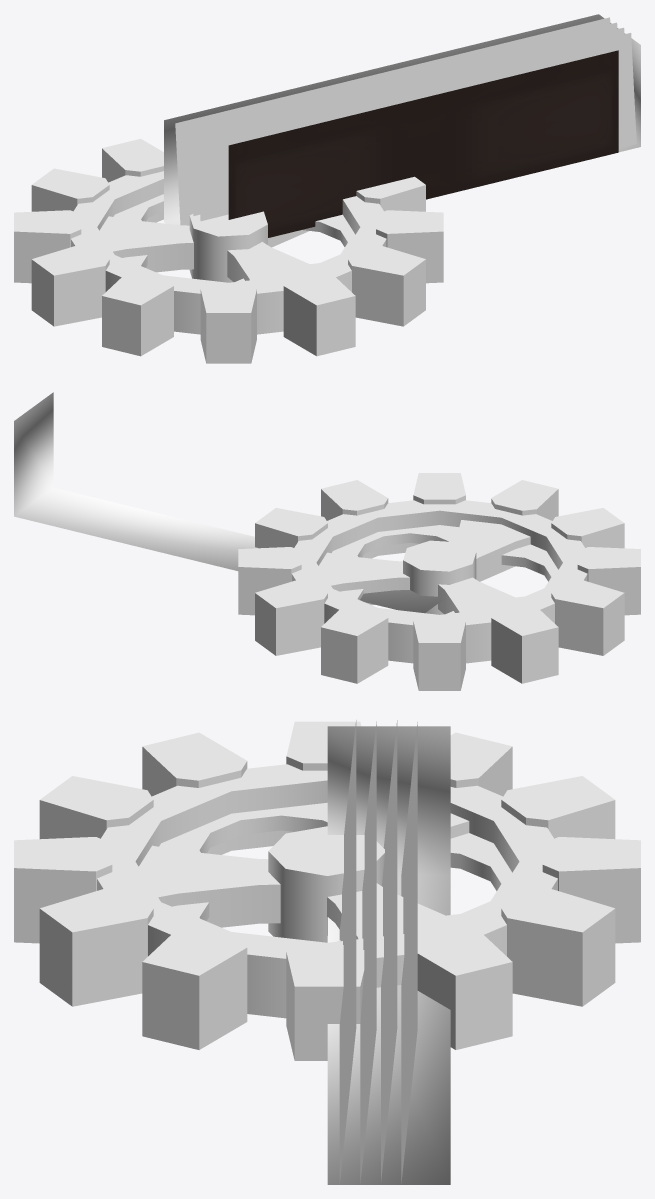
The model's file is roof_gear_8x2.glb.
The picture shows the model from 3 angles, top to bottom: view 1: azimuth 30°, elevation 25°; view 2: azimuth 150°, elevation 25°; view 3: azimuth 270°, elevation 25°; orthographic projection. The views are drawn at different scales.
Parts seen in each view (by area): view 1: rsrc.world.tileset.clockworks_shock.wall.roof_gear_8x2-MeshN (×3), rsrc.world.prop.clockworks.gears.1unit_teeth.parts.12teeth-M (×5); view 2: rsrc.world.prop.clockworks.gears.1unit_teeth.parts.12teeth-M (×5), rsrc.world.tileset.clockworks_shock.wall.roof_gear_8x2-MeshN; view 3: rsrc.world.prop.clockworks.gears.1unit_teeth.parts.12teeth-M (×5), rsrc.world.tileset.clockworks_shock.wall.roof_gear_8x2-MeshN (×2).
Boxes of the visible parts, x1,y1,x2,y2 form: rsrc.world.tileset.clockworks_shock.wall.roof_gear_8x2-MeshN (×3): [164, 14, 640, 237]; rsrc.world.prop.clockworks.gears.1unit_teeth.parts.12teeth-M (×5): [14, 138, 443, 363]; rsrc.world.prop.clockworks.gears.1unit_teeth.parts.12teeth-M (×5): [238, 473, 640, 690]; rsrc.world.tileset.clockworks_shock.wall.roof_gear_8x2-MeshN: [14, 392, 442, 613]; rsrc.world.prop.clockworks.gears.1unit_teeth.parts.12teeth-M (×5): [14, 721, 640, 1060]; rsrc.world.tileset.clockworks_shock.wall.roof_gear_8x2-MeshN (×2): [327, 720, 450, 1184].
Bounding box in the file's own units: 12.28 × 2.64 × 7.64.
7 materials, 1 textured.
